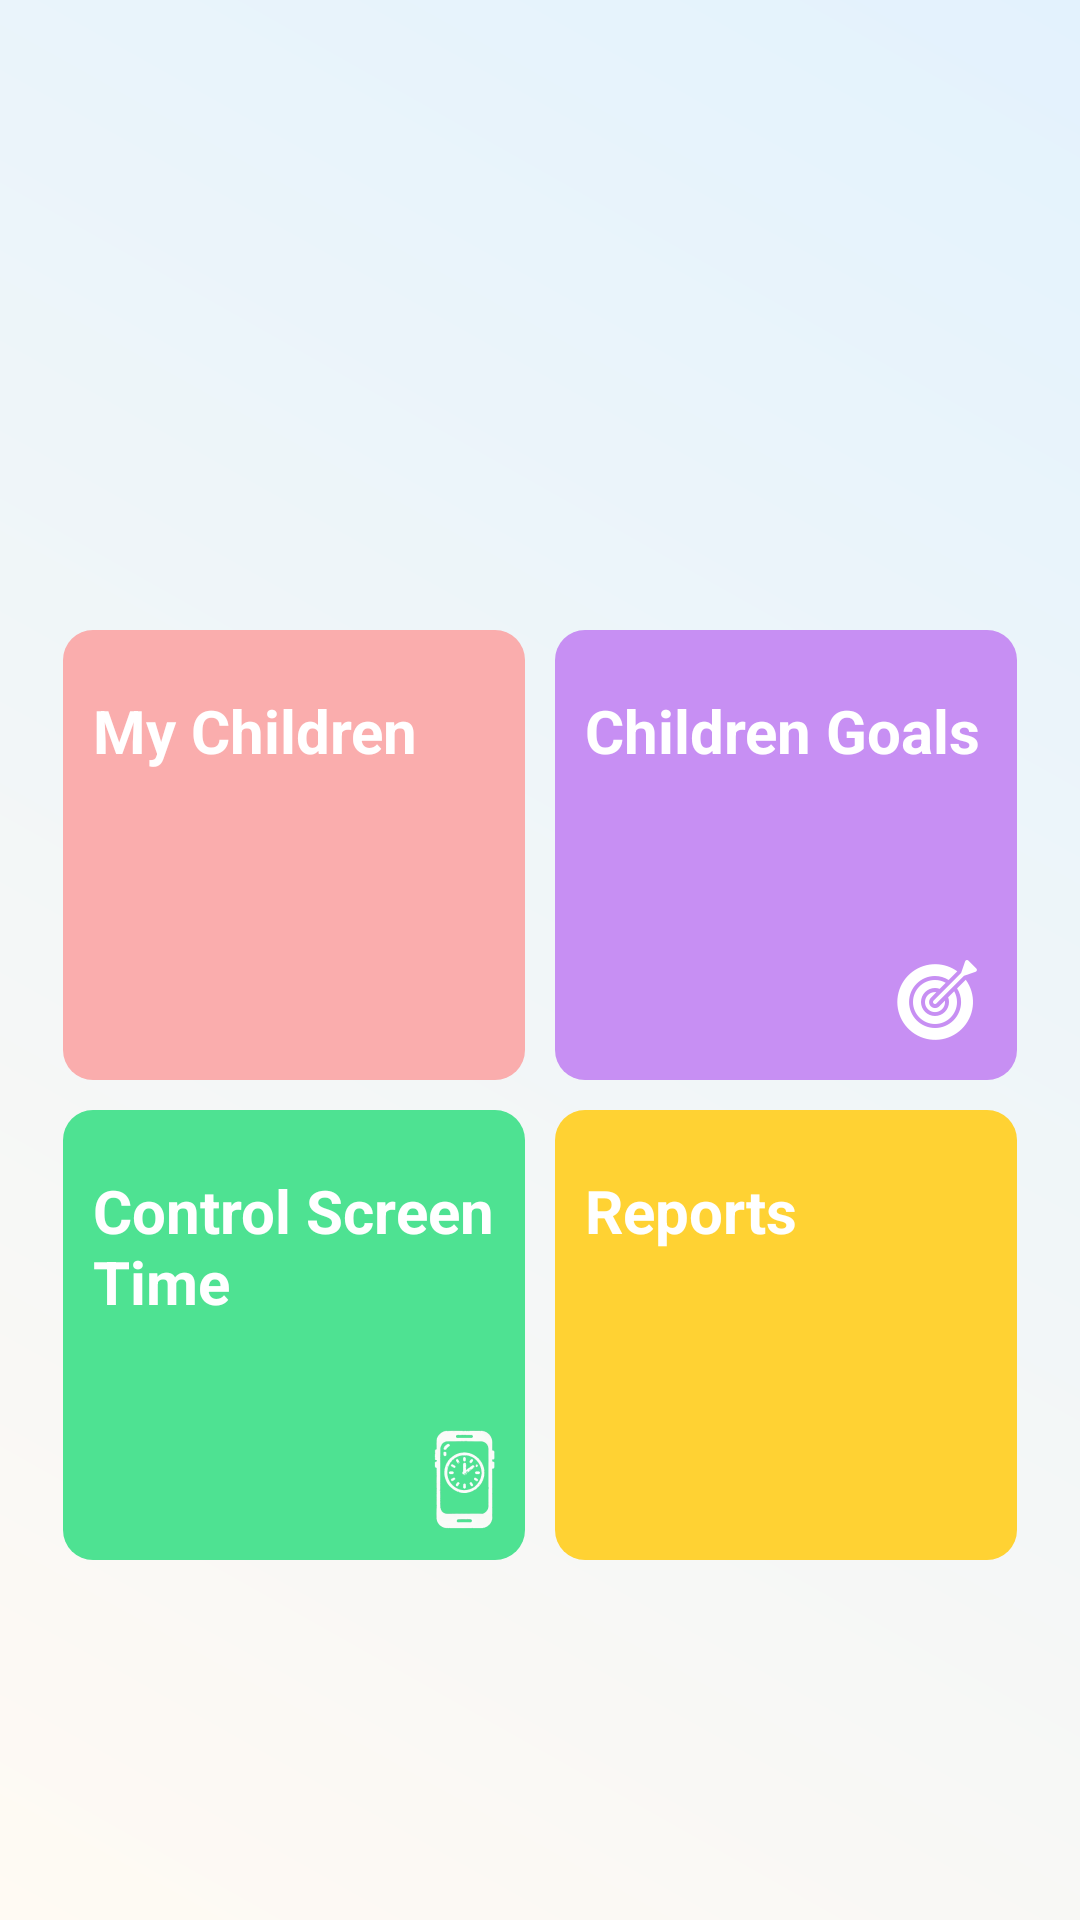

Named icons in this screenshot (1080*1920) and their centers, (x=x, y=y):
child goals: (x=937, y=1000)
